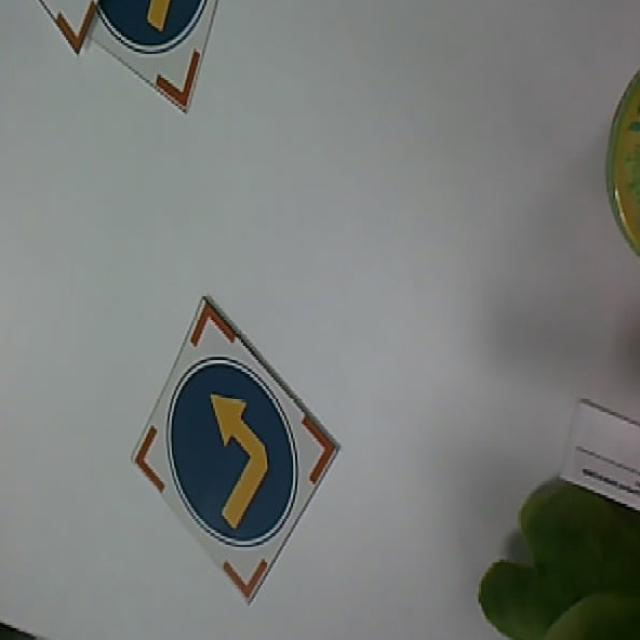turn: (117, 308, 346, 601), (60, 0, 279, 104)
